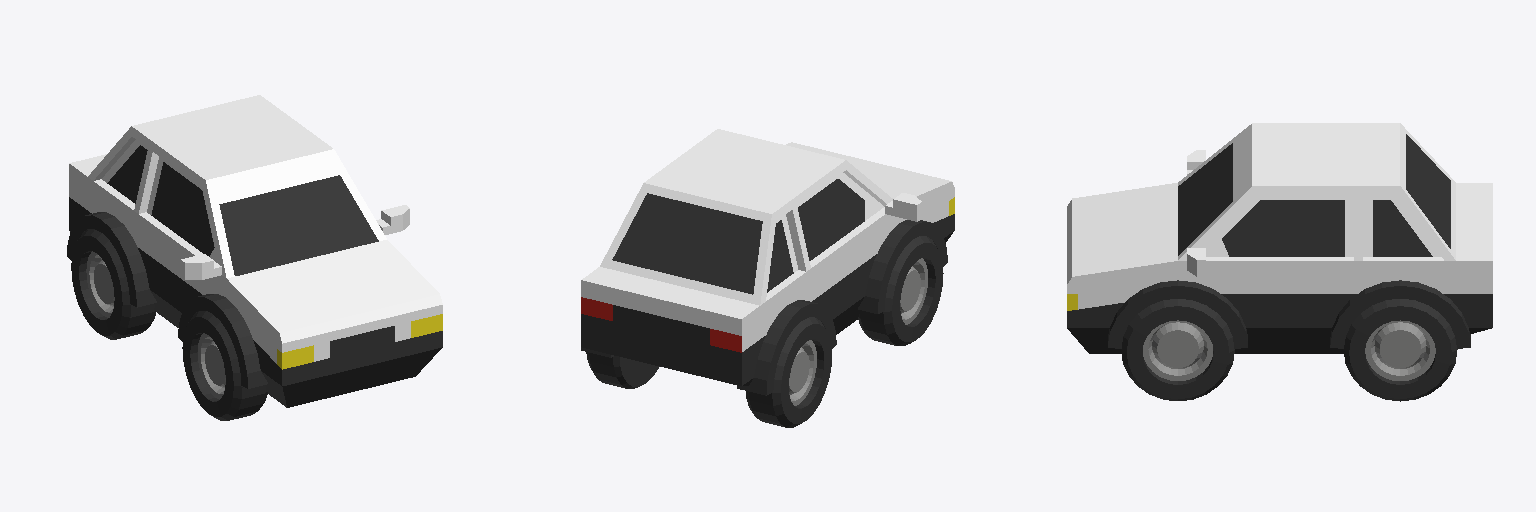
File: car_small_white.obj
3 views of the same model, side by side, from view 1: azimuth 30°, elevation 25°; view 2: azimuth 150°, elevation 25°; view 3: azimuth 270°, elevation 25° (orthographic).
Parts seen in each view (by area): view 1: mergedBlocks; view 2: mergedBlocks; view 3: mergedBlocks.
Part boxes in pixels (x1,y1,x2,y2): mergedBlocks: (67, 95, 442, 420); mergedBlocks: (581, 129, 954, 427); mergedBlocks: (1067, 123, 1492, 401).
Size of the model in its own units: 1.4 by 1.21 by 2.3.